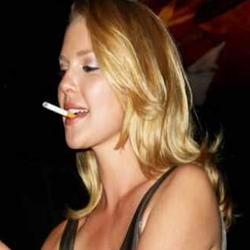smoking: (38, 100, 91, 126)
